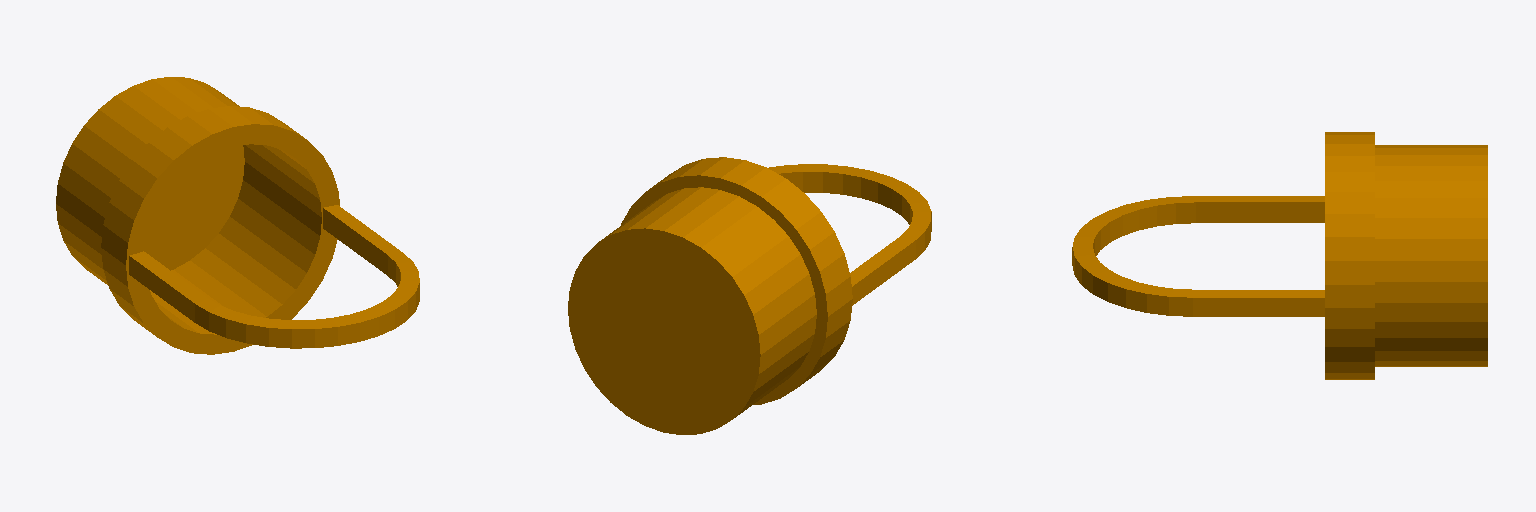
Rendered from pozoNaranja.obj.
3 renders of one model, left to right at view 1: azimuth 30°, elevation 25°; view 2: azimuth 150°, elevation 25°; view 3: azimuth 270°, elevation 25°, orthographic.
Visible parts, largest first — view 1: Cylinder.001, Cylinder_Cylinder.002; view 2: Cylinder.001, Cylinder_Cylinder.002; view 3: Cylinder.001, Cylinder_Cylinder.002.
Boxes of the visible parts, x1,y1,x2,y2 form: Cylinder.001: [56, 77, 339, 354]; Cylinder_Cylinder.002: [129, 205, 419, 348]; Cylinder.001: [568, 157, 852, 434]; Cylinder_Cylinder.002: [768, 164, 931, 305]; Cylinder.001: [1325, 132, 1487, 379]; Cylinder_Cylinder.002: [1072, 196, 1324, 316].
Size of the model in its own units: 4.81 by 4.81 by 8.04.